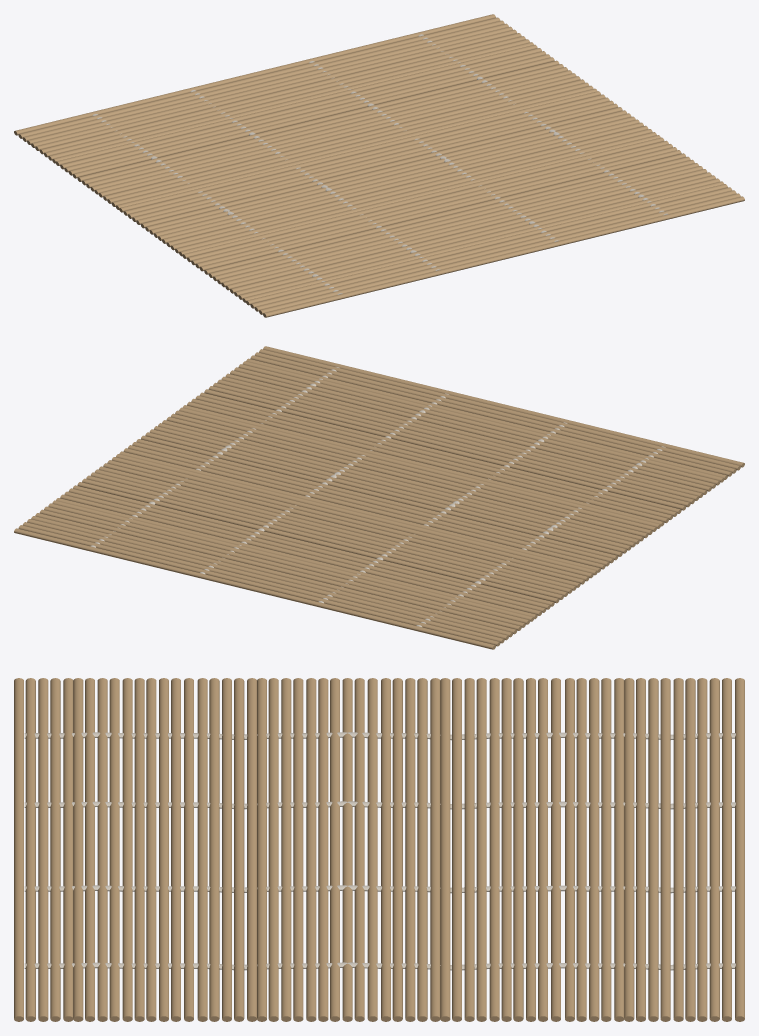
The model's file is Bamboomat_fbx.fbx.
The picture shows the model from 3 angles, top to bottom: view 1: azimuth 30°, elevation 25°; view 2: azimuth 150°, elevation 25°; view 3: azimuth 270°, elevation 25°; orthographic projection. The views are drawn at different scales.
Parts seen in each view (by area): view 1: bamboomat, pCylinder72; view 2: bamboomat, pCylinder72; view 3: bamboomat, pCylinder72.
Boxes of the visible parts, x1=… form: bamboomat: x1=14, y1=14, x2=744, y2=317; pCylinder72: x1=92, y1=34, x2=668, y2=294; bamboomat: x1=14, y1=346, x2=744, y2=649; pCylinder72: x1=90, y1=367, x2=665, y2=626; bamboomat: x1=14, y1=678, x2=744, y2=1021; pCylinder72: x1=24, y1=732, x2=735, y2=970.
Size of the model in its own units: 10.28 by 0.0919 by 9.39.
